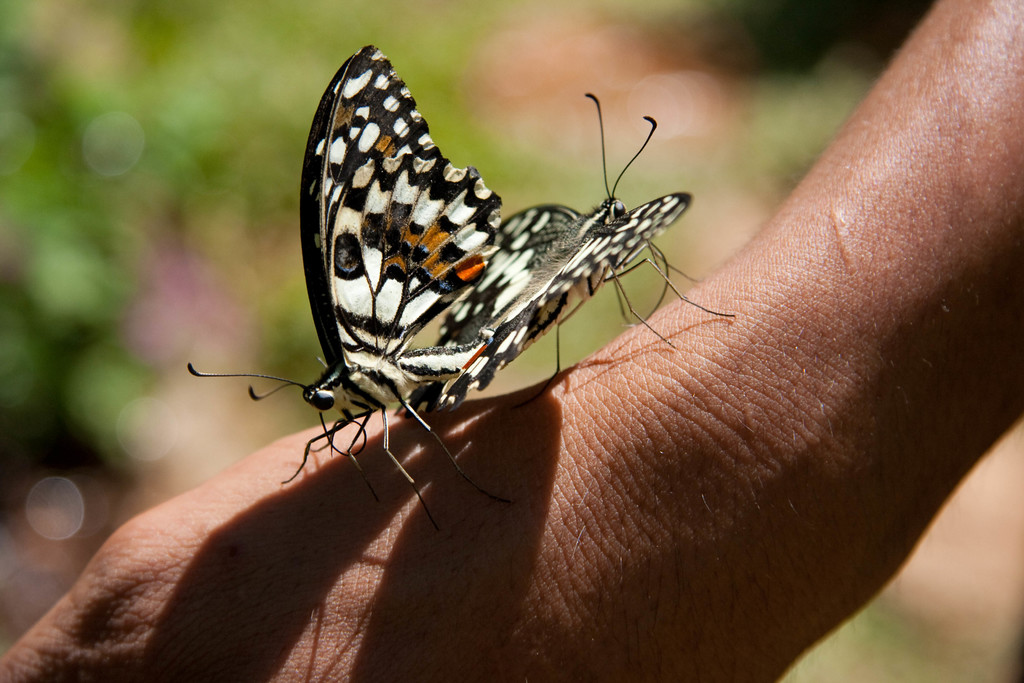Butterfly: (261, 39, 716, 484)
